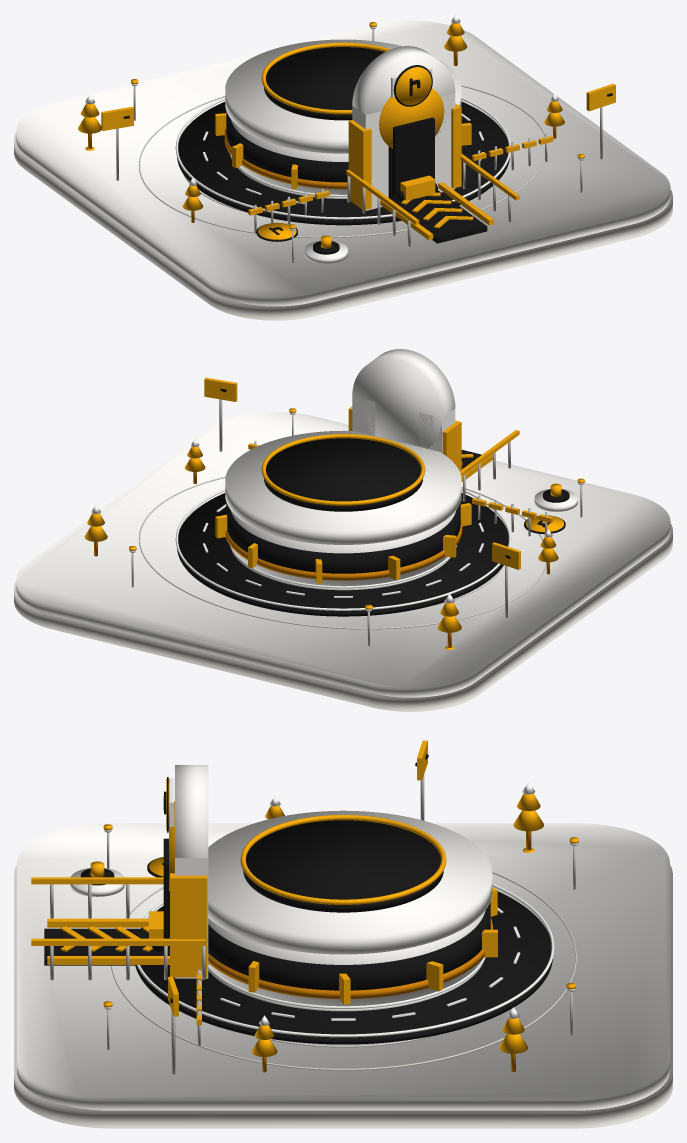
Rendered from zona_estacionamiento.glb.
The picture shows the model from 3 angles, top to bottom: view 1: azimuth 30°, elevation 25°; view 2: azimuth 150°, elevation 25°; view 3: azimuth 270°, elevation 25°; orthographic projection. The views are drawn at different scales.
Parts seen in each view (by area): view 1: rounded estacionamiento modular platform top, soft grey estacionamiento platform side, black circular turntable roadway, white upper parking cap, flat black turntable roof disk, rounded top white parking gateway, black gateway opening cover, black parking facade band, black entrance ramp to turntable, yellow rounded gateway crown, yellow inner gateway left trim, tall white front parking gateway left leg (+16 smaller); view 2: rounded estacionamiento modular platform top, black circular turntable roadway, white upper parking cap, soft grey estacionamiento platform side, flat black turntable roof disk, rounded top white parking gateway, black parking facade band, low circular white parking building body, thin yellow roof parking accent, yellow amber lower building ring, thin outer white road edge, subtle circular parking paving guide.001 (+7 smaller); view 3: rounded estacionamiento modular platform top, white upper parking cap, black circular turntable roadway, flat black turntable roof disk, soft grey estacionamiento platform side, black parking facade band, low circular white parking building body, yellow inner gateway right trim, rounded top white parking gateway, thin yellow roof parking accent, yellow amber lower building ring, thin outer white road edge (+11 smaller).
Boxes of the visible parts, box(x1,y1,x2,y2) form: rounded estacionamiento modular platform top: box(16, 20, 670, 306); soft grey estacionamiento platform side: box(14, 132, 672, 320); black circular turntable roadway: box(177, 101, 509, 225); white upper parking cap: box(225, 39, 461, 153); flat black turntable roof disk: box(264, 47, 384, 120); rounded top white parking gateway: box(352, 46, 455, 133); black gateway opening cover: box(392, 117, 434, 196); black parking facade band: box(226, 112, 348, 182); black entrance ramp to turntable: box(393, 190, 487, 243); yellow rounded gateway crown: box(379, 88, 444, 148); yellow inner gateway left trim: box(348, 120, 371, 209); tall white front parking gateway left leg: box(352, 105, 388, 210); rounded estacionamiento modular platform top: box(16, 412, 670, 697); black circular turntable roadway: box(177, 493, 508, 616); white upper parking cap: box(225, 430, 461, 544); soft grey estacionamiento platform side: box(14, 523, 672, 711); flat black turntable roof disk: box(264, 438, 422, 511); rounded top white parking gateway: box(352, 349, 455, 448); black parking facade band: box(226, 503, 460, 573); low circular white parking building body: box(230, 510, 456, 586); thin yellow roof parking accent: box(261, 434, 425, 505); yellow amber lower building ring: box(225, 520, 462, 580); thin outer white road edge: box(175, 488, 511, 610); subtle circular parking paving guide.001: box(138, 476, 546, 629); rounded estacionamiento modular platform top: box(17, 823, 669, 1110); white upper parking cap: box(208, 810, 492, 954); black circular turntable roadway: box(135, 891, 552, 1044); flat black turntable roof disk: box(243, 820, 443, 912); soft grey estacionamiento platform side: box(14, 865, 672, 1128); black parking facade band: box(208, 901, 490, 990); low circular white parking building body: box(208, 910, 485, 1006); yellow inner gateway right trim: box(170, 873, 207, 977); rounded top white parking gateway: box(175, 765, 208, 857); thin yellow roof parking accent: box(240, 815, 446, 904); yellow amber lower building ring: box(208, 918, 492, 998); thin outer white road edge: box(136, 883, 554, 1037).
Bounding box in the file's own units: 4.34 × 1.61 × 4.34.
